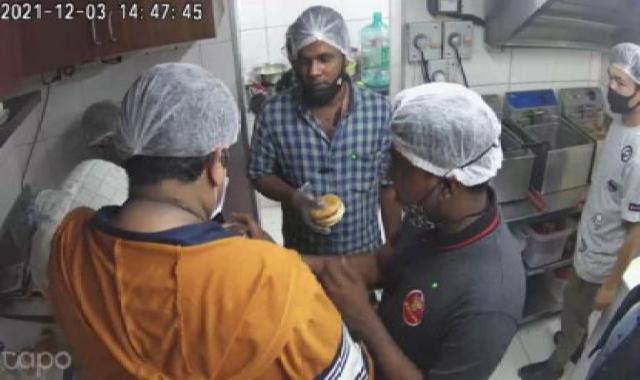hairnet: (385, 78, 520, 196), (118, 62, 250, 160), (278, 6, 372, 65), (593, 36, 640, 98)
